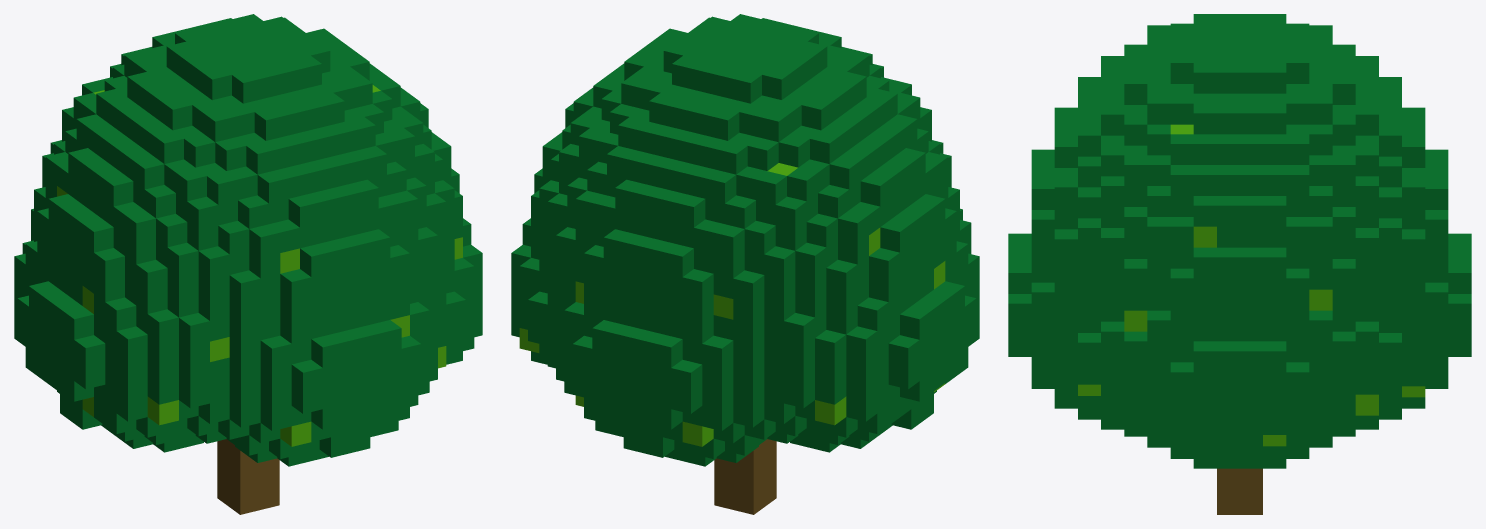
The model's file is guoshu1.obj.
3 renders of one model, left to right at view 1: azimuth 30°, elevation 25°; view 2: azimuth 150°, elevation 25°; view 3: azimuth 270°, elevation 25°, orthographic.
Bounding box in the file's own units: 4 × 4.4 × 4.
1 material, 1 textured.
